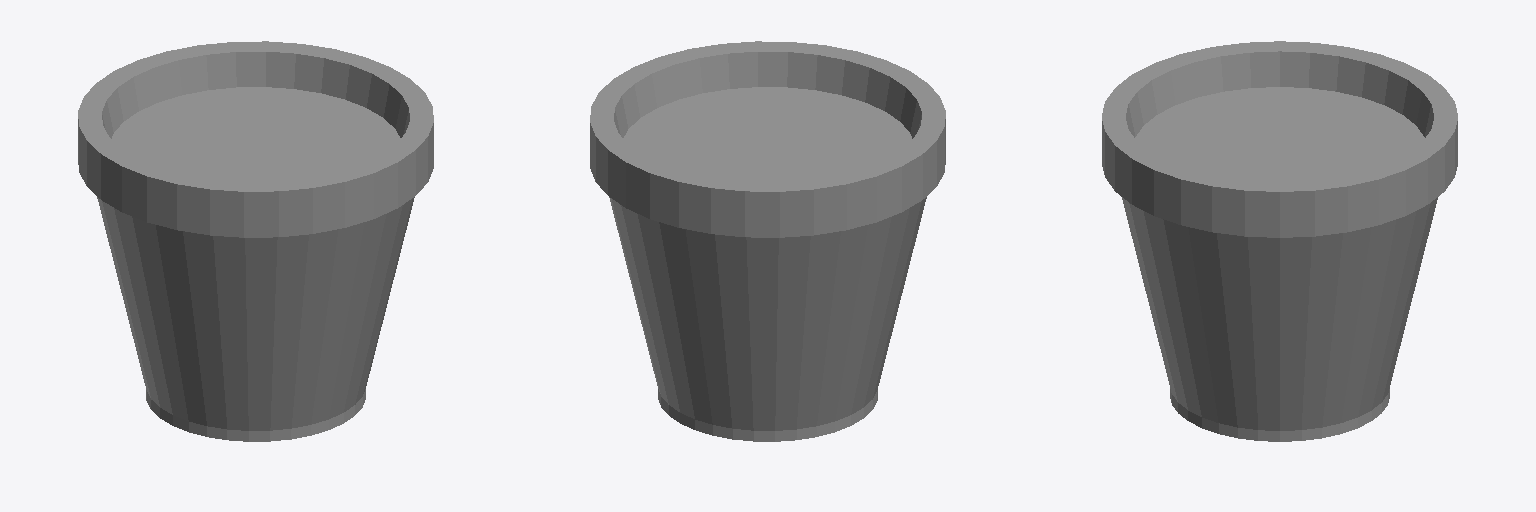
The model's file is doniczka_ziemia1.obj.
3 views of the same model, side by side, from view 1: azimuth 30°, elevation 25°; view 2: azimuth 150°, elevation 25°; view 3: azimuth 270°, elevation 25° (orthographic).
Visible parts, largest first — view 1: pusta_Cylinder.008, ziemia_Cylinder.006; view 2: pusta_Cylinder.008, ziemia_Cylinder.006; view 3: pusta_Cylinder.008, ziemia_Cylinder.006.
Part boxes in pixels (left/top/right/bottom): pusta_Cylinder.008: left=78, top=41, right=433, bottom=441; ziemia_Cylinder.006: left=112, top=87, right=400, bottom=181; pusta_Cylinder.008: left=590, top=41, right=945, bottom=441; ziemia_Cylinder.006: left=623, top=87, right=911, bottom=181; pusta_Cylinder.008: left=1102, top=41, right=1457, bottom=441; ziemia_Cylinder.006: left=1135, top=87, right=1424, bottom=181.
Size of the model in its own units: 3.23 by 2.79 by 3.23.